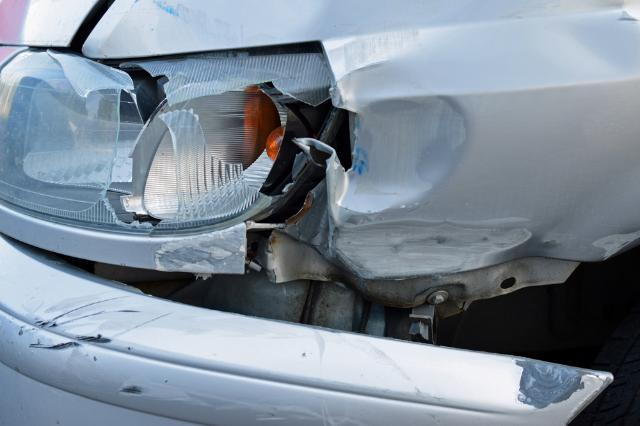dent: (341, 95, 469, 213)
dislocated part: (0, 164, 617, 426)
lamp broken: (0, 51, 335, 230)
scratch: (15, 291, 445, 426), (333, 221, 535, 277), (147, 222, 248, 275), (591, 230, 640, 263)
